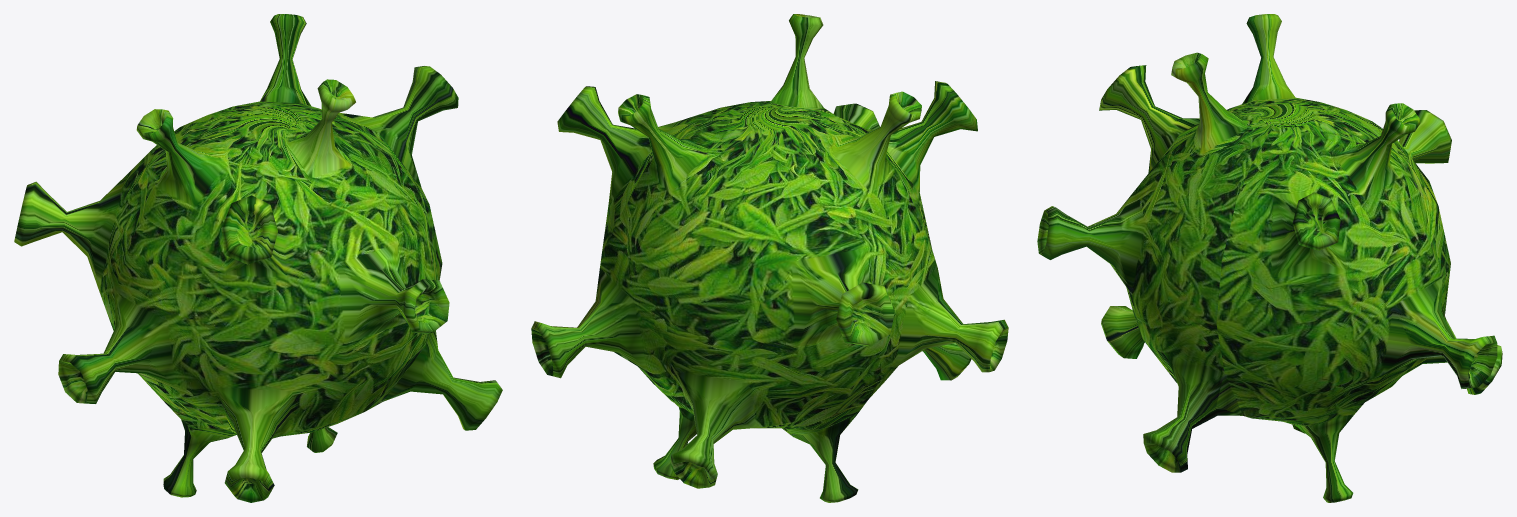
Rendered from grass.obj.
3 views of the same model, side by side, from view 1: azimuth 30°, elevation 25°; view 2: azimuth 150°, elevation 25°; view 3: azimuth 270°, elevation 25° (orthographic). The views are drawn at different scales.
Size of the model in its own units: 46.95 by 46.73 by 46.85.
1 material, 1 textured.
